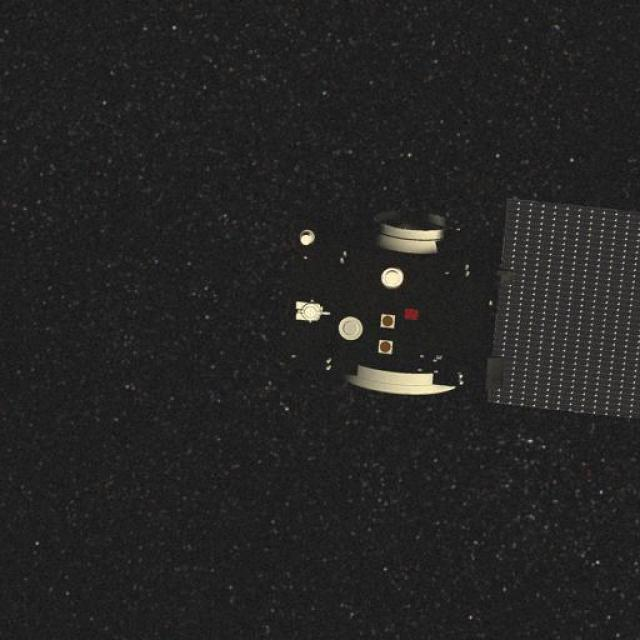proba_3_csc: (264, 168, 640, 454)
